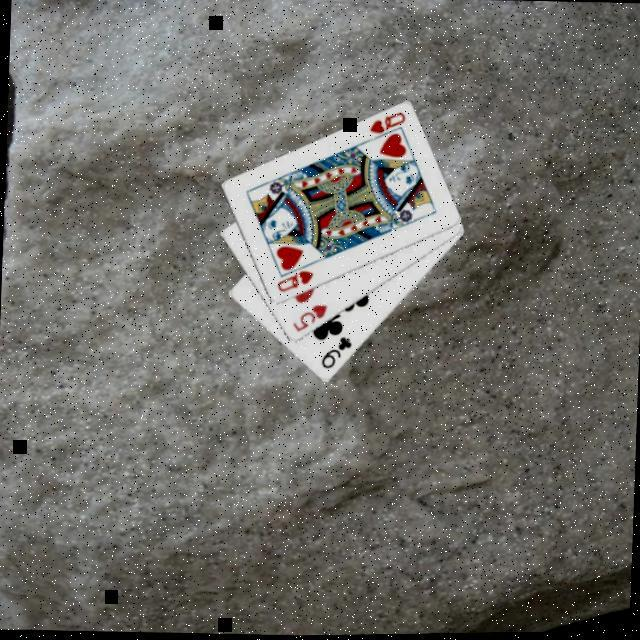5H: (288, 302, 328, 336)
9C: (316, 334, 354, 374)
QH: (364, 109, 406, 147), (272, 268, 315, 298)
